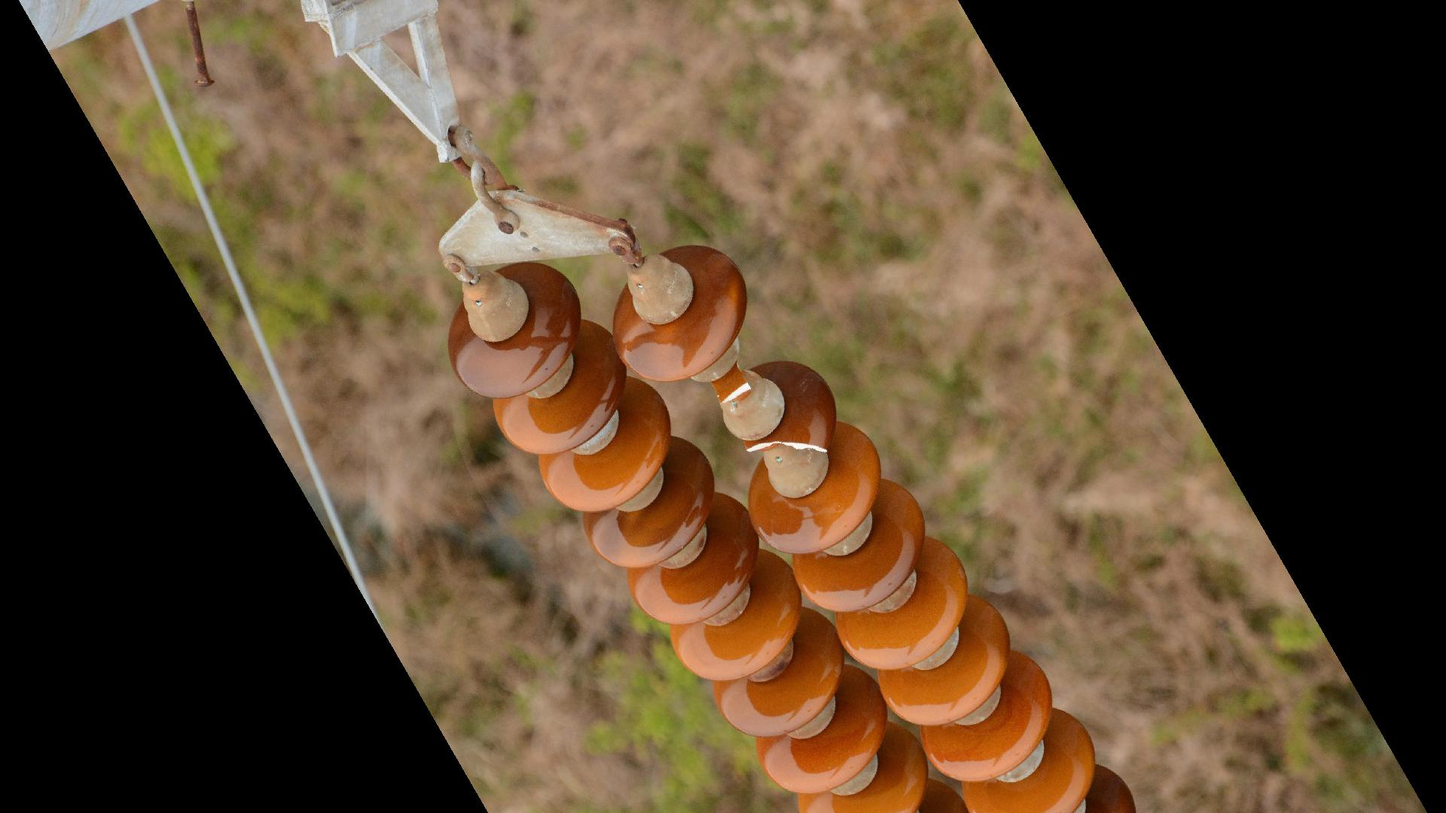insulator: (444, 257, 958, 813), (726, 356, 1146, 813), (602, 240, 756, 397)
insulator_breakage: (738, 425, 833, 463)
